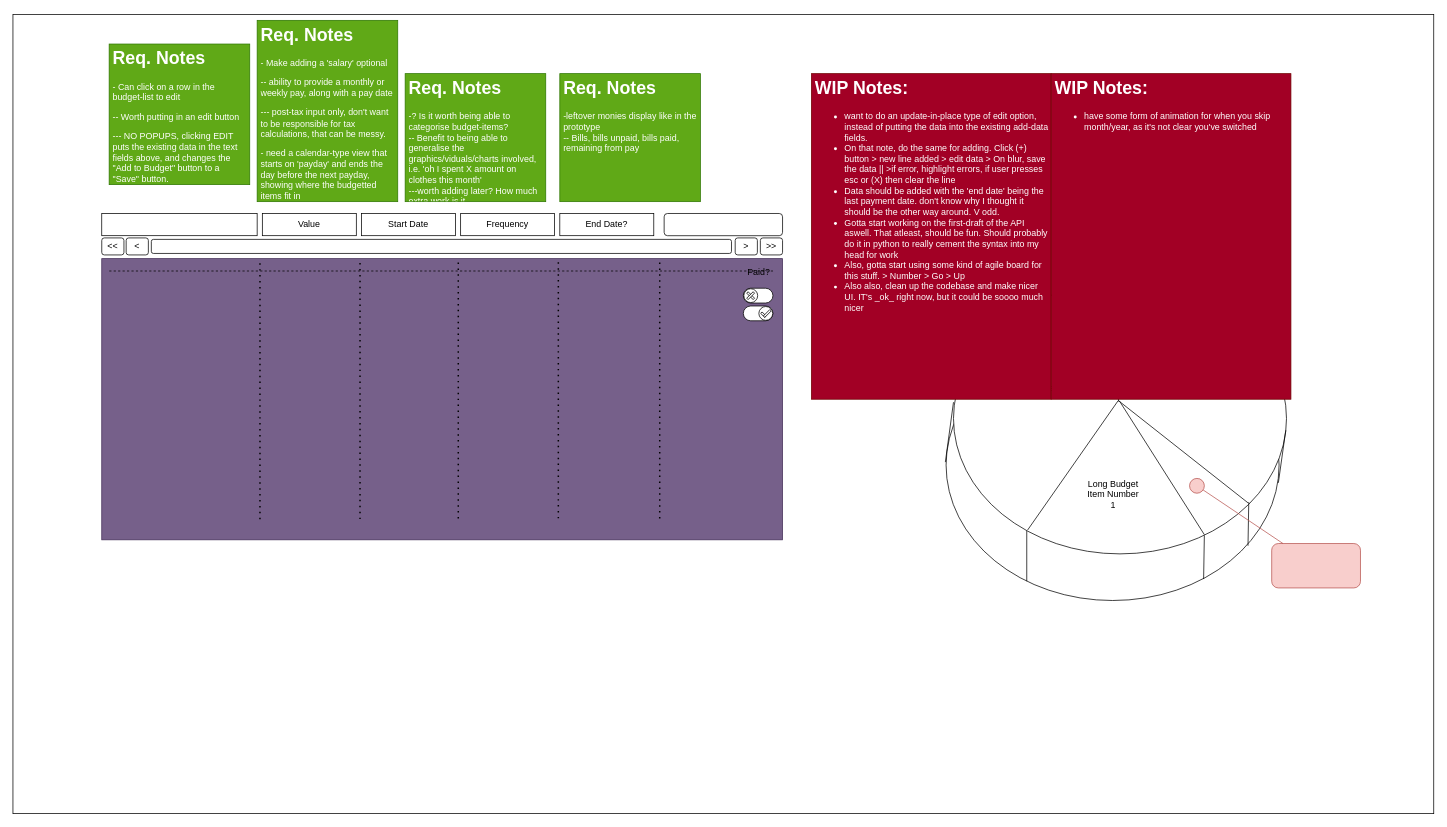
This 1447x827 diagram has some shape labels left out. The shapes that lost their labels are listed below. From the top down, each one's centre as x and y in pixels, then its label:
(x=179, y=224): Item Name
(x=723, y=224): Add to Budget
(x=441, y=246): ${MONTH}
(x=1315, y=565): Budget Item that Doesn't fit within the given space
